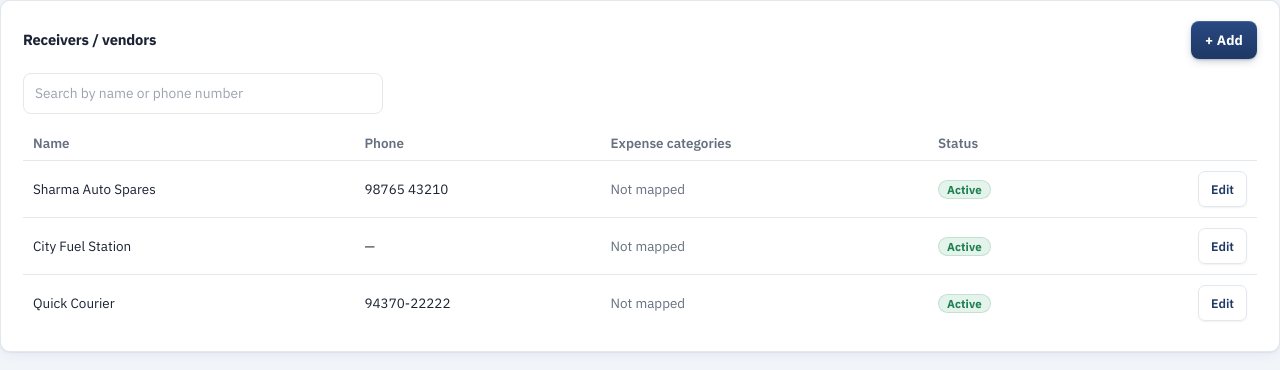
Vendor list search (rev 77) › says so when nothing matches
The image size is (1280, 370).
Expected: the text "Sharma Auto Spares" is shown, [23, 161, 354, 218]
Type "zzz" into the search field named "Search vendors" at {"x": 203, "y": 94}, box [23, 73, 383, 114]
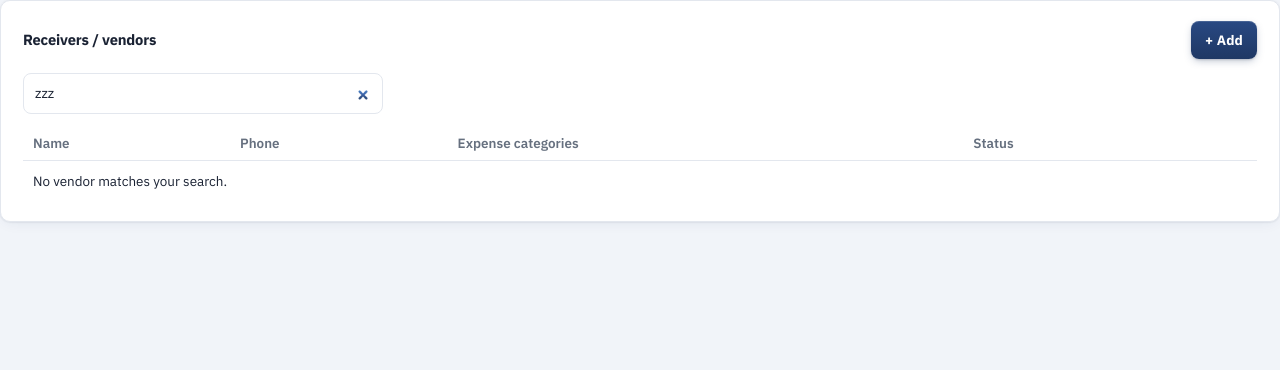
Now the text "No vendor matches your search." is shown, box [23, 161, 1257, 201]
